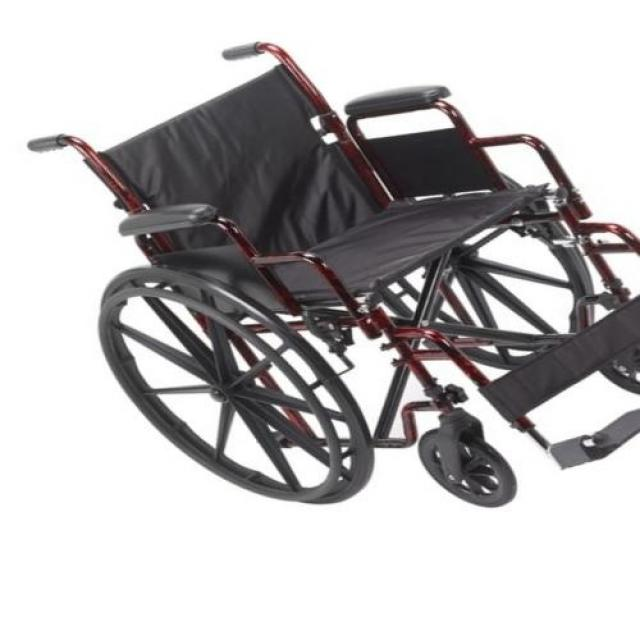wheelchair: (21, 33, 640, 532)
